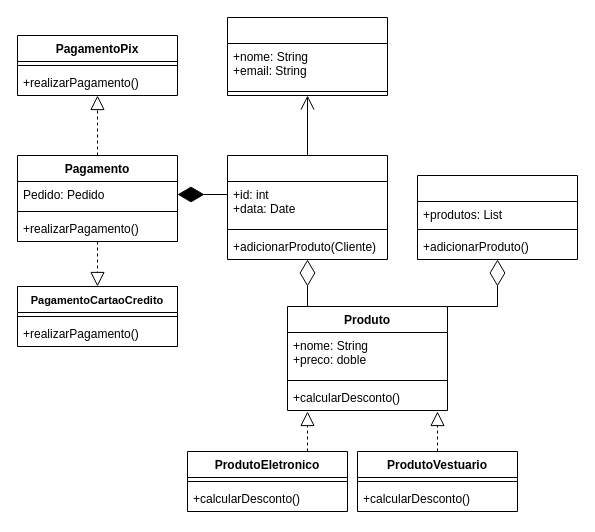
This 595x532 diagram has some shape labels left out. Here are the shapes that lost their labels. From the top down, the box of each, then its label:
(226, 16, 388, 96): Cliente
(226, 154, 388, 260): Pedido
(416, 174, 578, 260): Carrinho
